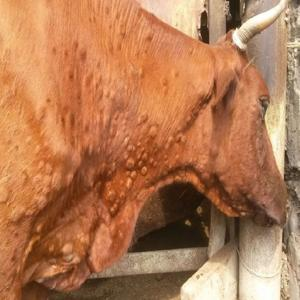lumpy skin diesease: (0, 0, 290, 299)
